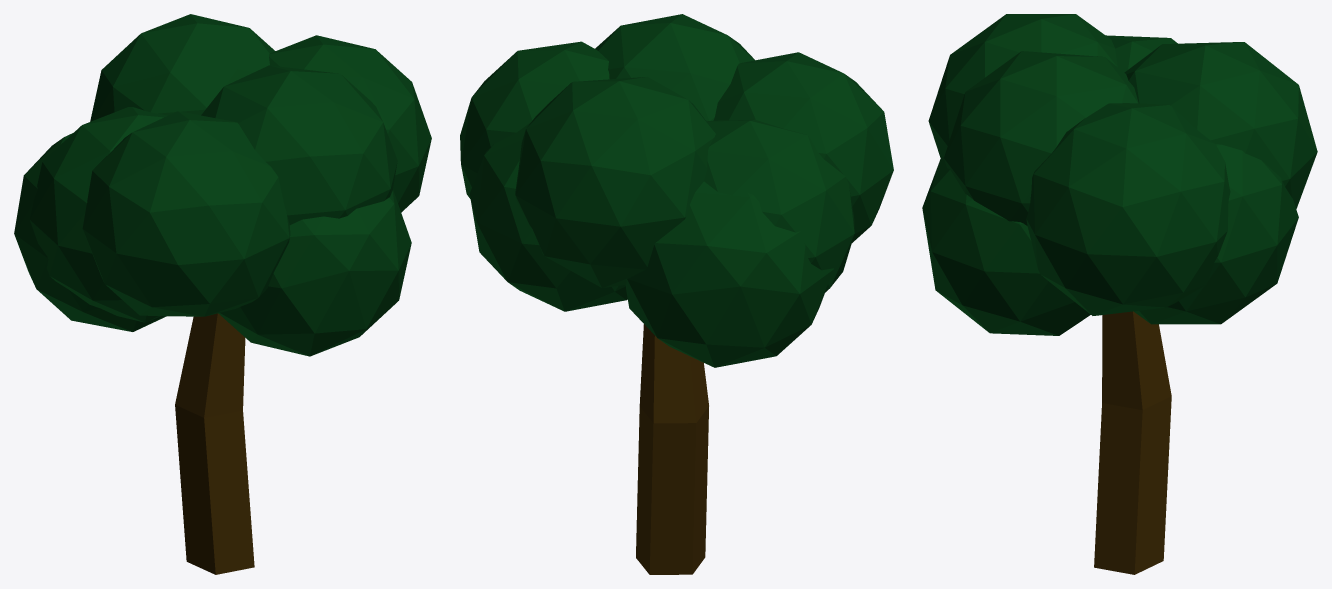
The model's file is normal.fbx.
3 views of the same model, side by side, from view 1: azimuth 30°, elevation 25°; view 2: azimuth 150°, elevation 25°; view 3: azimuth 270°, elevation 25° (orthographic). The views are drawn at different scales.
Visible parts, largest first — view 1: normal; view 2: normal; view 3: normal.
Boxes of the visible parts, x1=… form: normal: x1=14, y1=14, x2=431, y2=574; normal: x1=460, y1=14, x2=893, y2=574; normal: x1=922, y1=14, x2=1317, y2=574.
Size of the model in its own units: 76.58 by 100 by 68.84.
